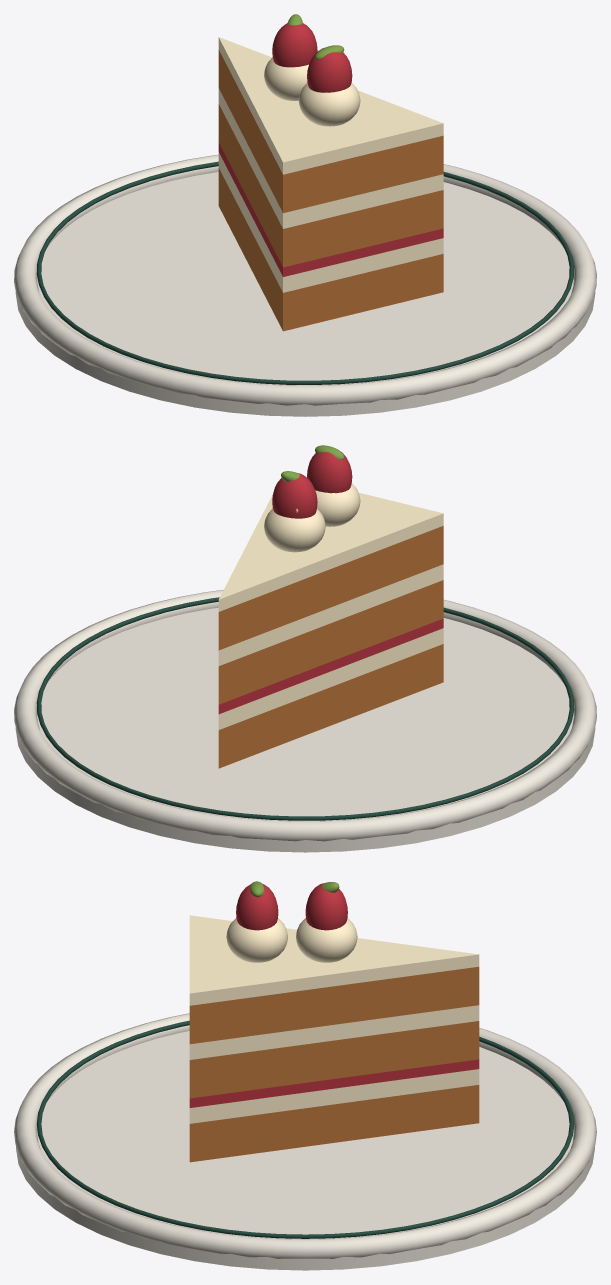
The model's file is cake-small.glb.
3 views of the same model, one above another, from view 1: azimuth 30°, elevation 25°; view 2: azimuth 150°, elevation 25°; view 3: azimuth 270°, elevation 25° (orthographic).
Parts seen in each view (by area): view 1: Morsel original cake small; view 2: Morsel original cake small; view 3: Morsel original cake small.
Part boxes in pixels (bbox=[...]): Morsel original cake small: bbox=[14, 23, 596, 416]; Morsel original cake small: bbox=[14, 452, 596, 852]; Morsel original cake small: bbox=[14, 883, 596, 1270].
Bounding box in the file's own units: 3.02 × 1.53 × 3.02.
